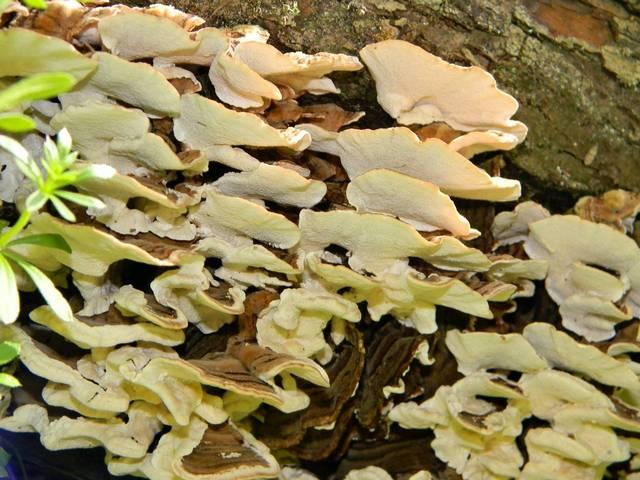Non-edible Mushroom: (1, 2, 636, 478)
